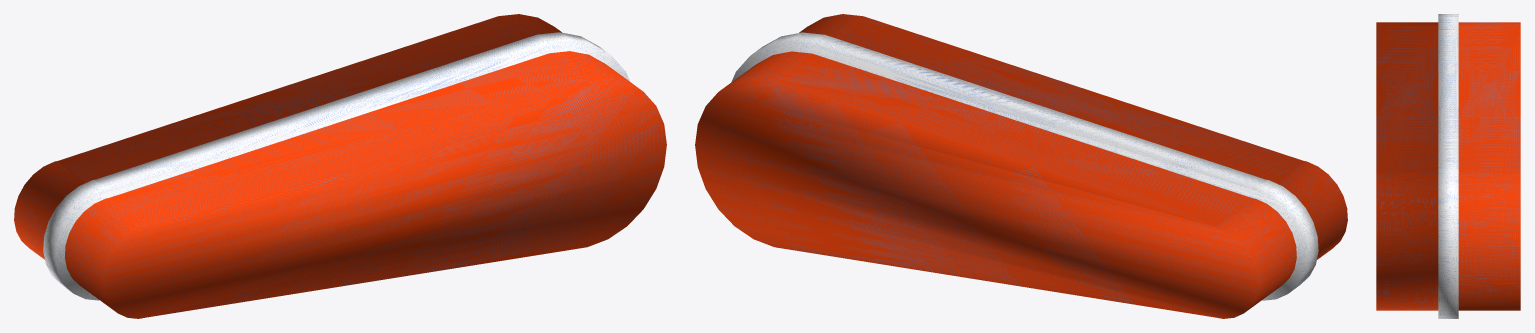
File: flipperRight.dae
3 renders of one model, left to right at view 1: azimuth 30°, elevation 25°; view 2: azimuth 150°, elevation 25°; view 3: azimuth 270°, elevation 25°, orthographic. The views are drawn at different scales.
Visible parts, largest first — view 1: SketchUp (×3); view 2: SketchUp (×3); view 3: SketchUp (×3).
Boxes of the visible parts, x1=… form: SketchUp (×3): x1=14, y1=14, x2=666, y2=318; SketchUp (×3): x1=695, y1=14, x2=1347, y2=318; SketchUp (×3): x1=1376, y1=14, x2=1520, y2=318.
Size of the model in its own units: 260 by 68.9 by 78.74.
